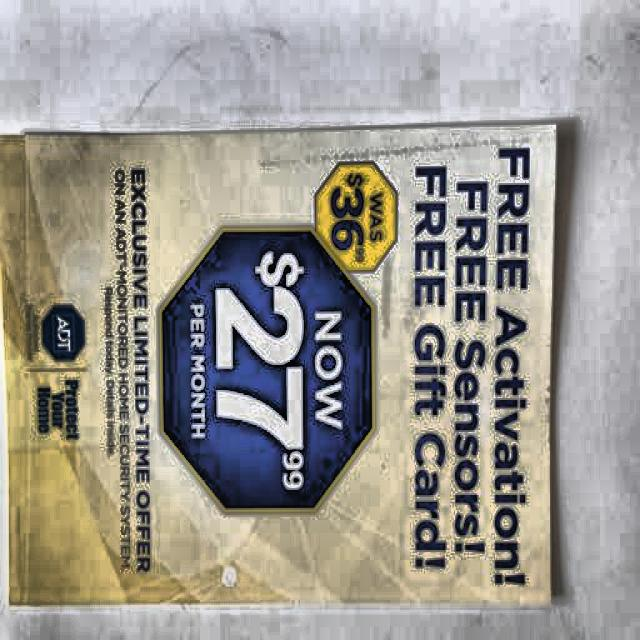paper: (0, 127, 556, 603)
